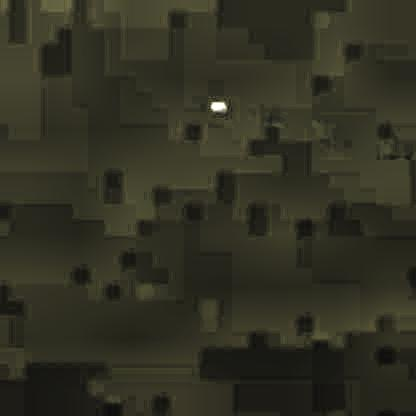golfball: (206, 98, 223, 112)
